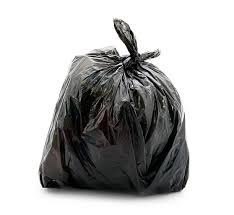Trash: (31, 12, 198, 199)
